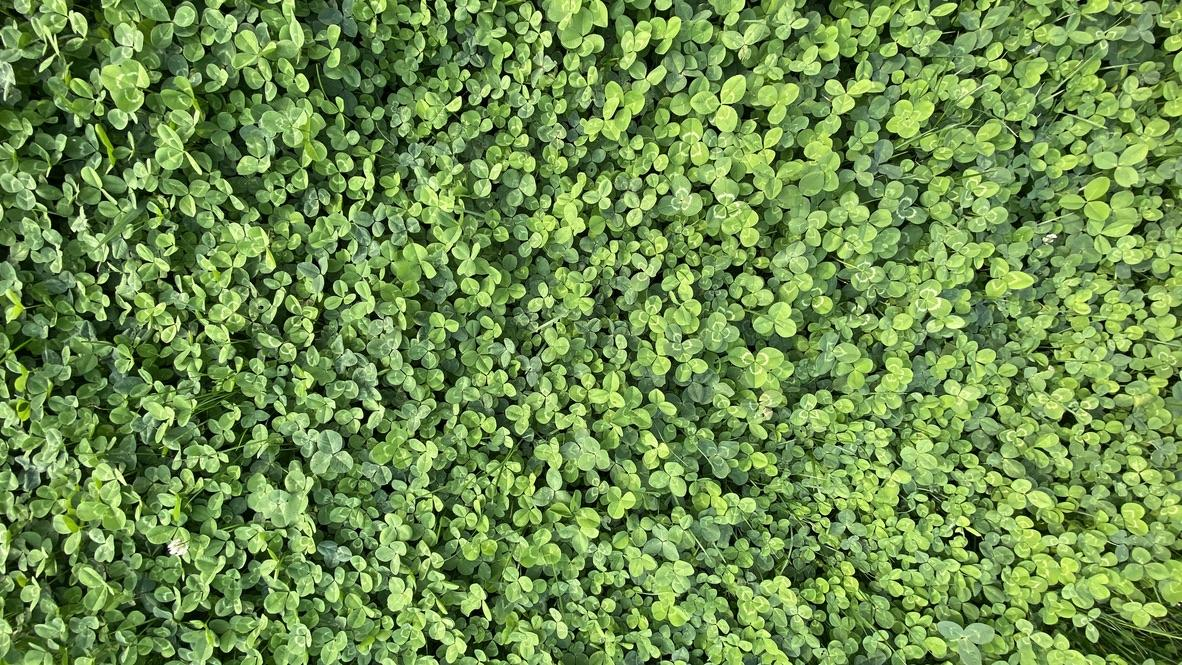4-Leaf-Clovers: (174, 140, 245, 167)
